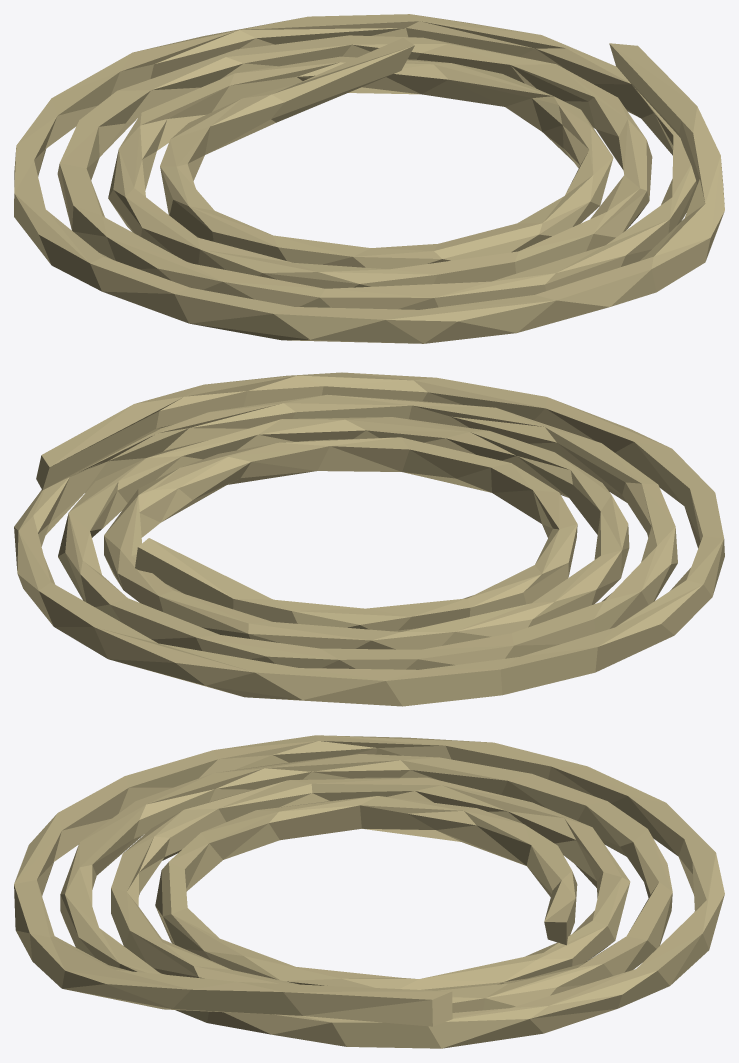
Rendered from greek_rope.fbx.
3 renders of one model, top to bottom at view 1: azimuth 30°, elevation 25°; view 2: azimuth 150°, elevation 25°; view 3: azimuth 270°, elevation 25°, orthographic. The views are drawn at different scales.
Visible parts, largest first — view 1: Spiral.003; view 2: Spiral.003; view 3: Spiral.003.
Part boxes in pixels (bbox=[...]): Spiral.003: bbox=[14, 14, 724, 343]; Spiral.003: bbox=[14, 372, 724, 706]; Spiral.003: bbox=[14, 735, 724, 1048].
Bounding box in the file's own units: 89.91 × 7.34 × 91.74.
